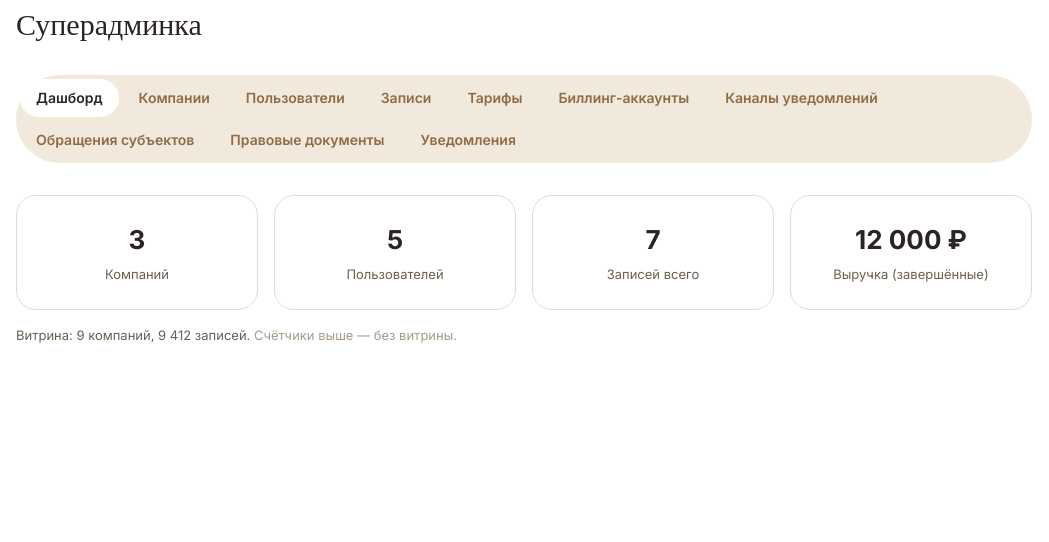
AdminPage — companies tab › badges only showcase companies
Click the button "Компании".
click(174, 98)  # box top-left (123, 79), bottom-right (226, 117)
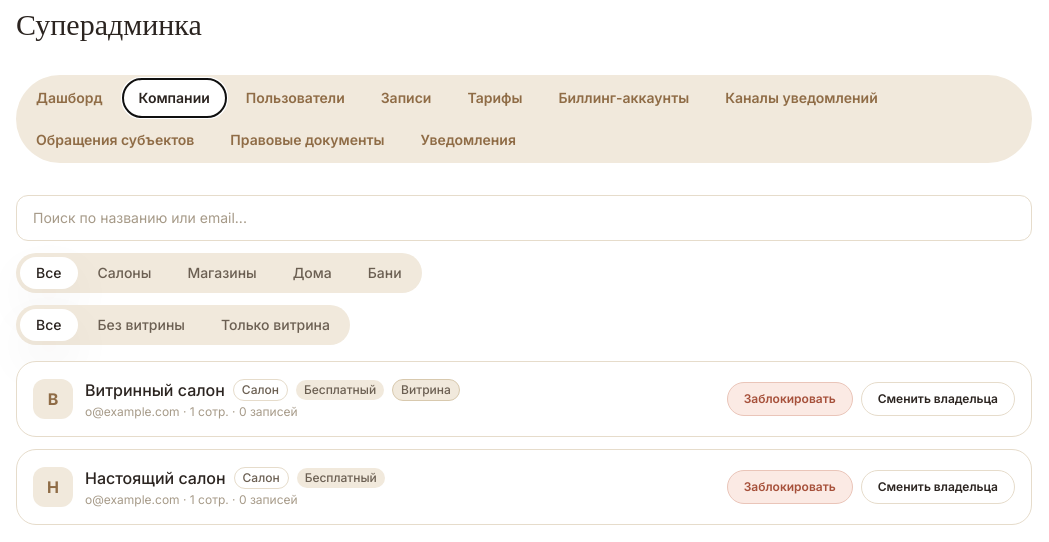
Expected: the text "Настоящий салон" does not show "Витрина", top-left (16, 449), bottom-right (1032, 525)
Expected: the text "Витринный салон" shows "Витрина", top-left (401, 382), bottom-right (451, 397)
